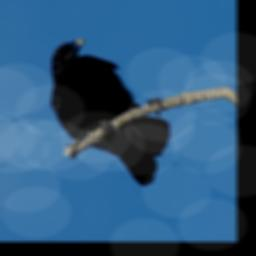Crow: (31, 29, 185, 191)
